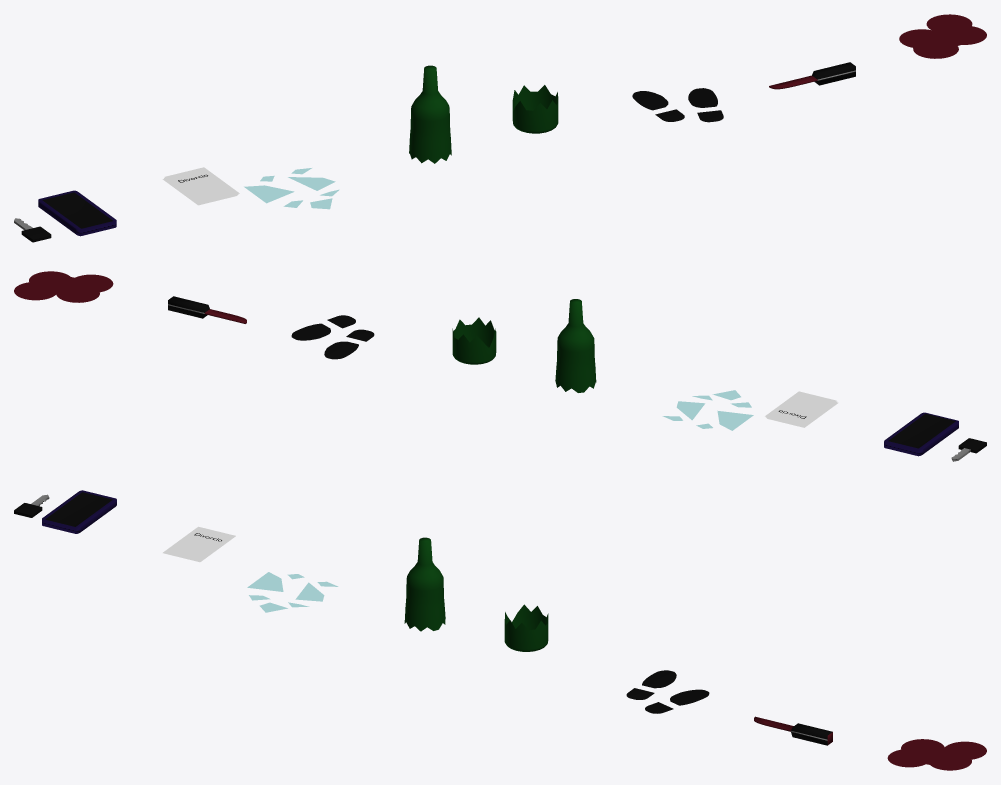
File: pistas.glb
3 views of the same model, one above another, from view 1: azimuth 30°, elevation 25°; view 2: azimuth 150°, elevation 25°; view 3: azimuth 330°, elevation 25° (orthographic). The views are drawn at different scales.
Parts seen in each view (by area): view 1: Cylinder.001, Circle.004, Cube.001, Cylinder, Plane.002, Cube.002, Plane.006, Cube; view 2: Cylinder.001, Circle.004, Cube.001, Cylinder, Plane.002, Cube.002, Plane.006, Cube; view 3: Cylinder.001, Circle.004, Cube.001, Cylinder, Plane.002, Cube.002, Plane.006, Cube.
Part boxes in pixels (<box>): Cylinder.001: <box>409,65,451,163</box>; Circle.004: <box>899,14,986,58</box>; Cube.001: <box>38,190,116,236</box>; Cylinder: <box>512,85,558,133</box>; Plane.002: <box>162,167,239,205</box>; Cube.002: <box>632,88,723,122</box>; Plane.006: <box>244,168,339,209</box>; Cube: <box>769,62,855,89</box>; Cylinder.001: <box>555,299,596,392</box>; Circle.004: <box>14,271,113,302</box>; Cube.001: <box>884,412,958,456</box>; Cylinder: <box>452,317,496,364</box>; Plane.002: <box>765,391,838,427</box>; Cube.002: <box>291,315,374,359</box>; Plane.006: <box>662,390,753,430</box>; Cube: <box>168,296,246,323</box>; Cylinder.001: <box>404,537,445,631</box>; Circle.004: <box>887,739,986,770</box>; Cube.001: <box>42,490,116,533</box>; Cylinder: <box>504,604,548,651</box>; Plane.002: <box>163,526,235,562</box>; Cube.002: <box>626,670,709,713</box>; Plane.006: <box>247,572,338,612</box>; Cube: <box>754,716,832,745</box>.
Bounding box in the file's own units: 49.11 × 5.29 × 5.87.
